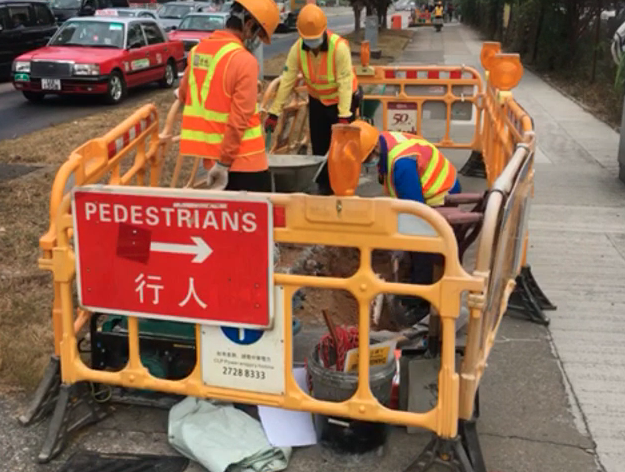Hard Hat: (230, 2, 281, 46), (346, 120, 381, 166), (296, 5, 327, 48)
Person: (181, 4, 281, 193), (282, 4, 362, 197)
Vest: (182, 22, 266, 159), (377, 130, 459, 205), (288, 36, 360, 107)
